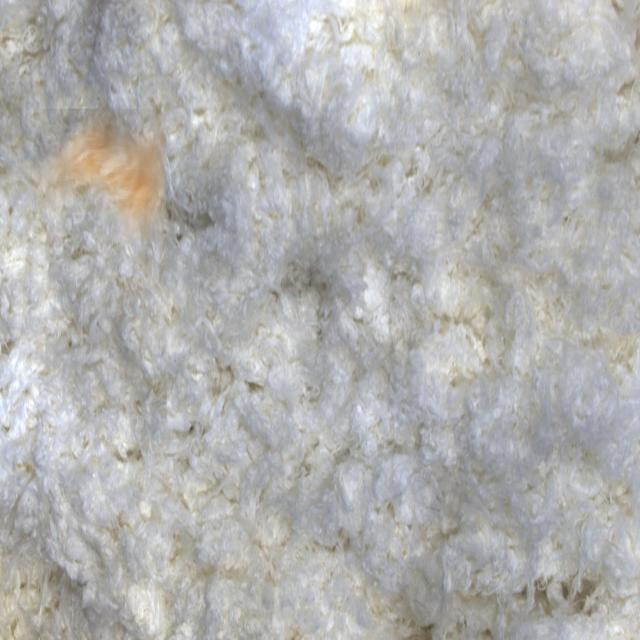dust: (34, 109, 166, 242)
